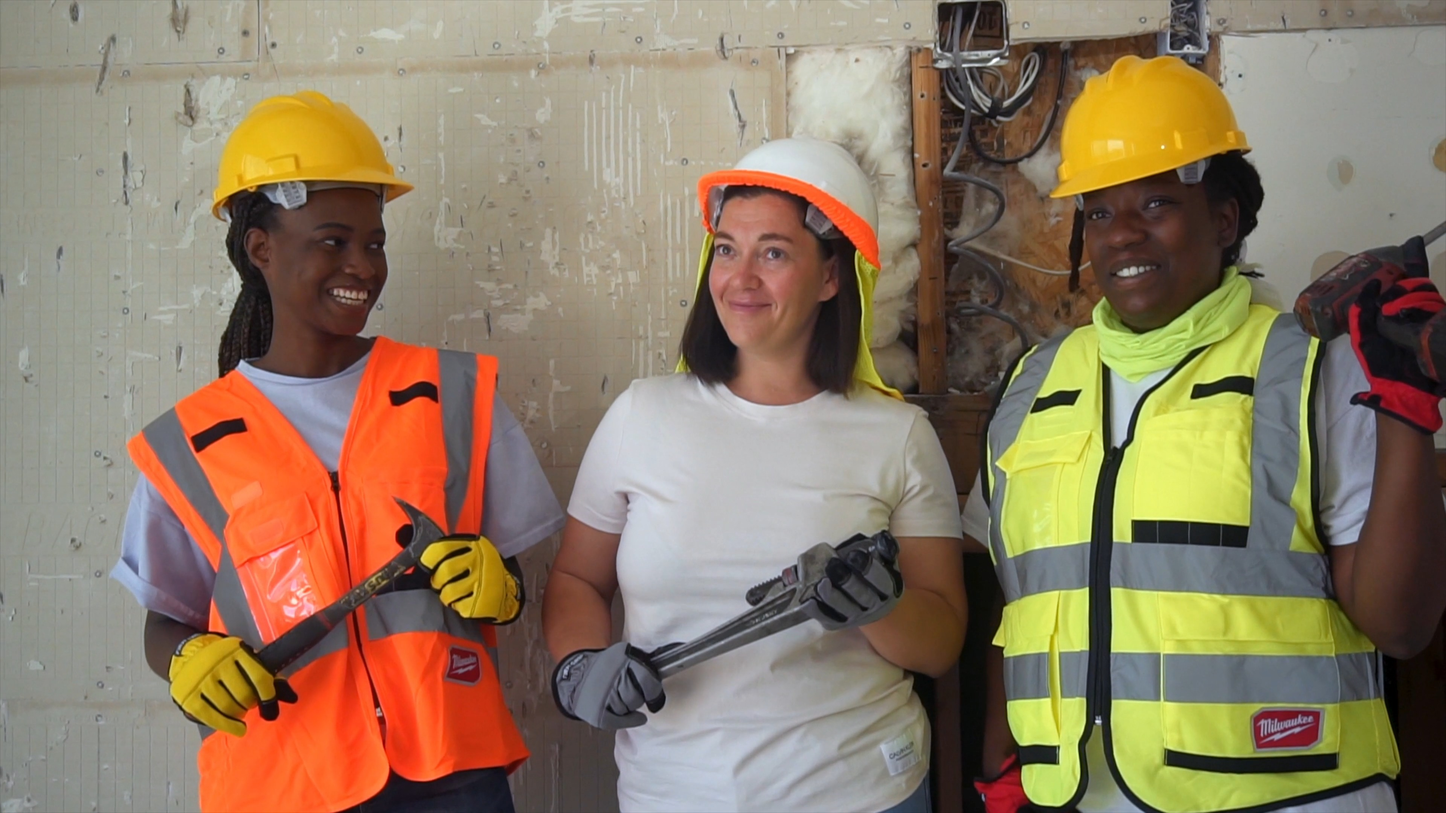gloves: (138, 634, 320, 748), (1309, 282, 1446, 425), (408, 517, 531, 619), (806, 523, 897, 658), (558, 634, 663, 734)
